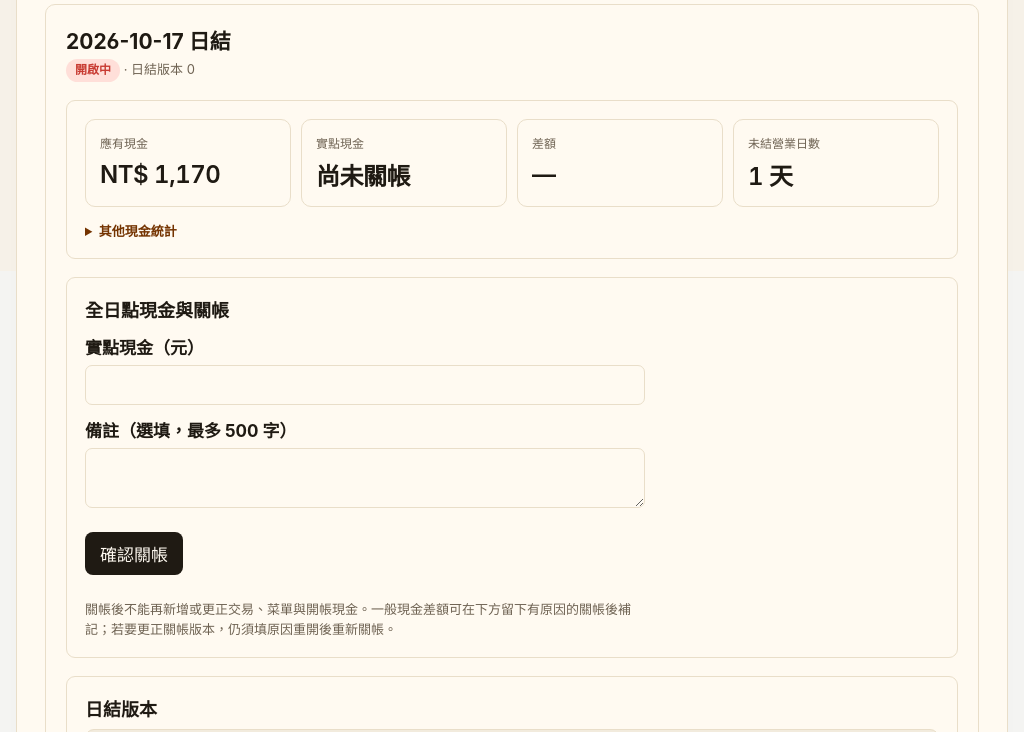
Test: CloudDayClosePage › closes without a note when the counted cash equals the expected cash
(page scrolled)
Type "1170" into the field labelled "實點現金（元）" at (365, 385), box [85, 365, 645, 405]
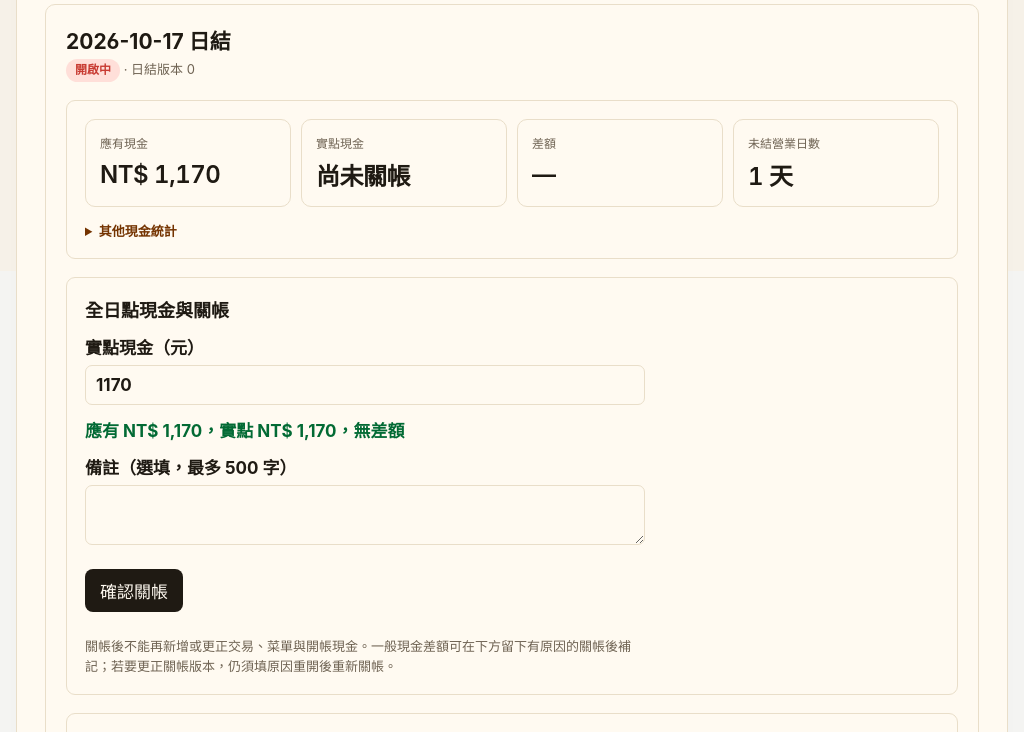
Expected: the text "應有 NT$ 1,170，實點 NT$ 1,170，無差額" is shown, [85, 421, 405, 441]
Click the button "確認關帳" at (134, 590), box [85, 569, 183, 612]
(page scrolled)
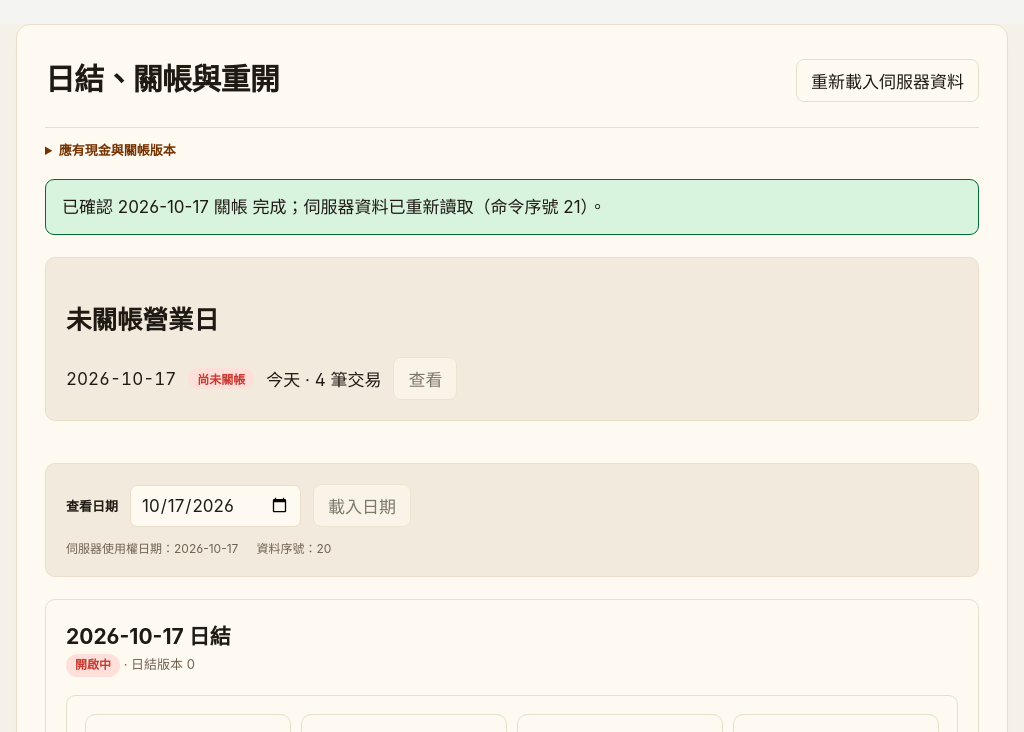
Expected: the text "已確認 2026-10-17 關帳 完成；伺服器資料已重新讀取（命令序號 21）。" is shown, [45, 179, 979, 235]
